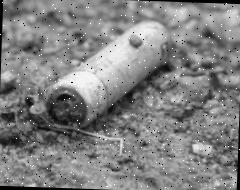electronic: (31, 5, 198, 164)
